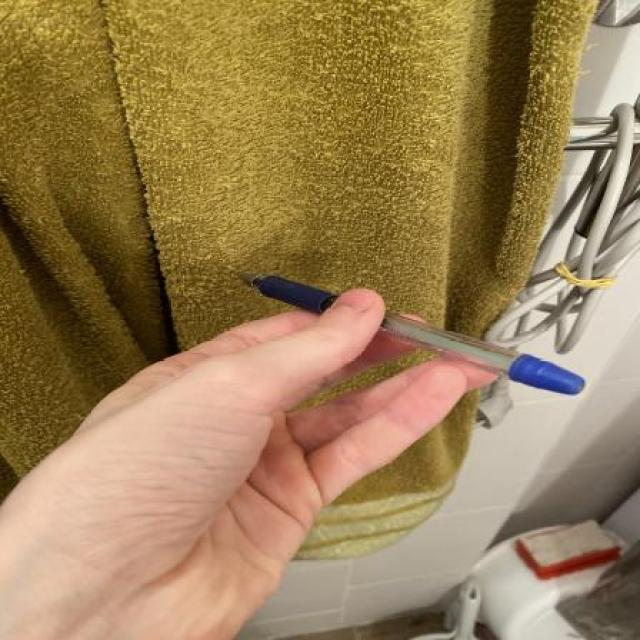pen: (235, 267, 585, 399)
